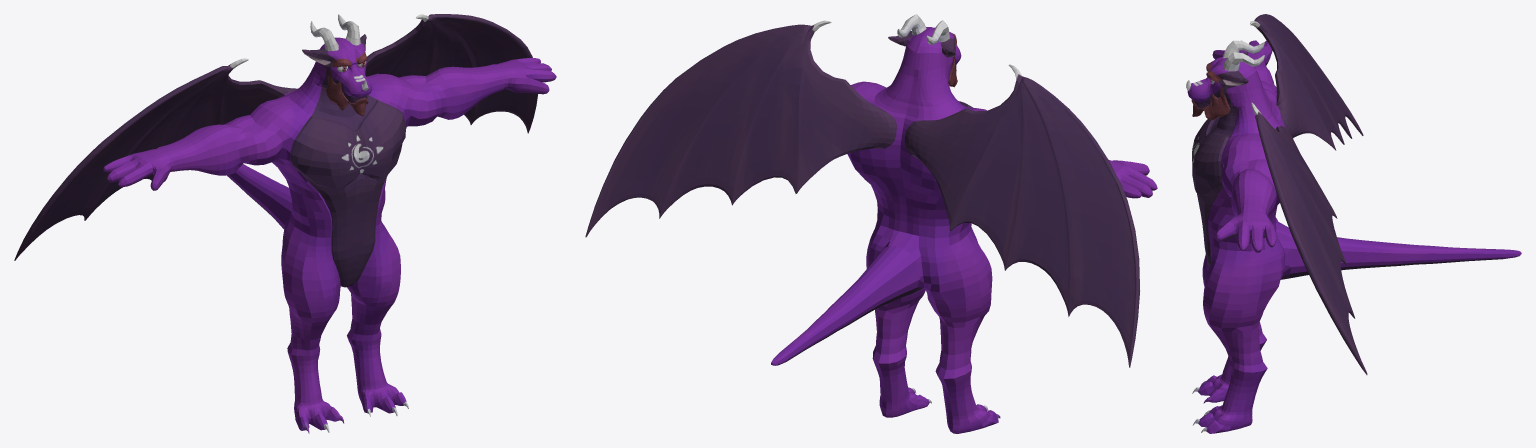
Rendered from IzantDracoEsqueletoTerminado.glb.
The picture shows the model from 3 angles, left to right: view 1: azimuth 30°, elevation 25°; view 2: azimuth 150°, elevation 25°; view 3: azimuth 270°, elevation 25°; orthographic projection. The views are drawn at different scales.
Parts seen in each view (by area): view 1: Cuerpo; view 2: Cuerpo; view 3: Cuerpo.
Part boxes in pixels (x1,y1,x2,y2): Cuerpo: (14, 14, 556, 433); Cuerpo: (585, 14, 1157, 433); Cuerpo: (1186, 14, 1521, 433).
Bounding box in the file's own units: 32.49 × 22.99 × 19.26.
Materials: 2 (2 with a texture image).
